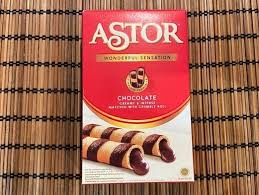Astor Chocolate (40g): (77, 6, 198, 186)
